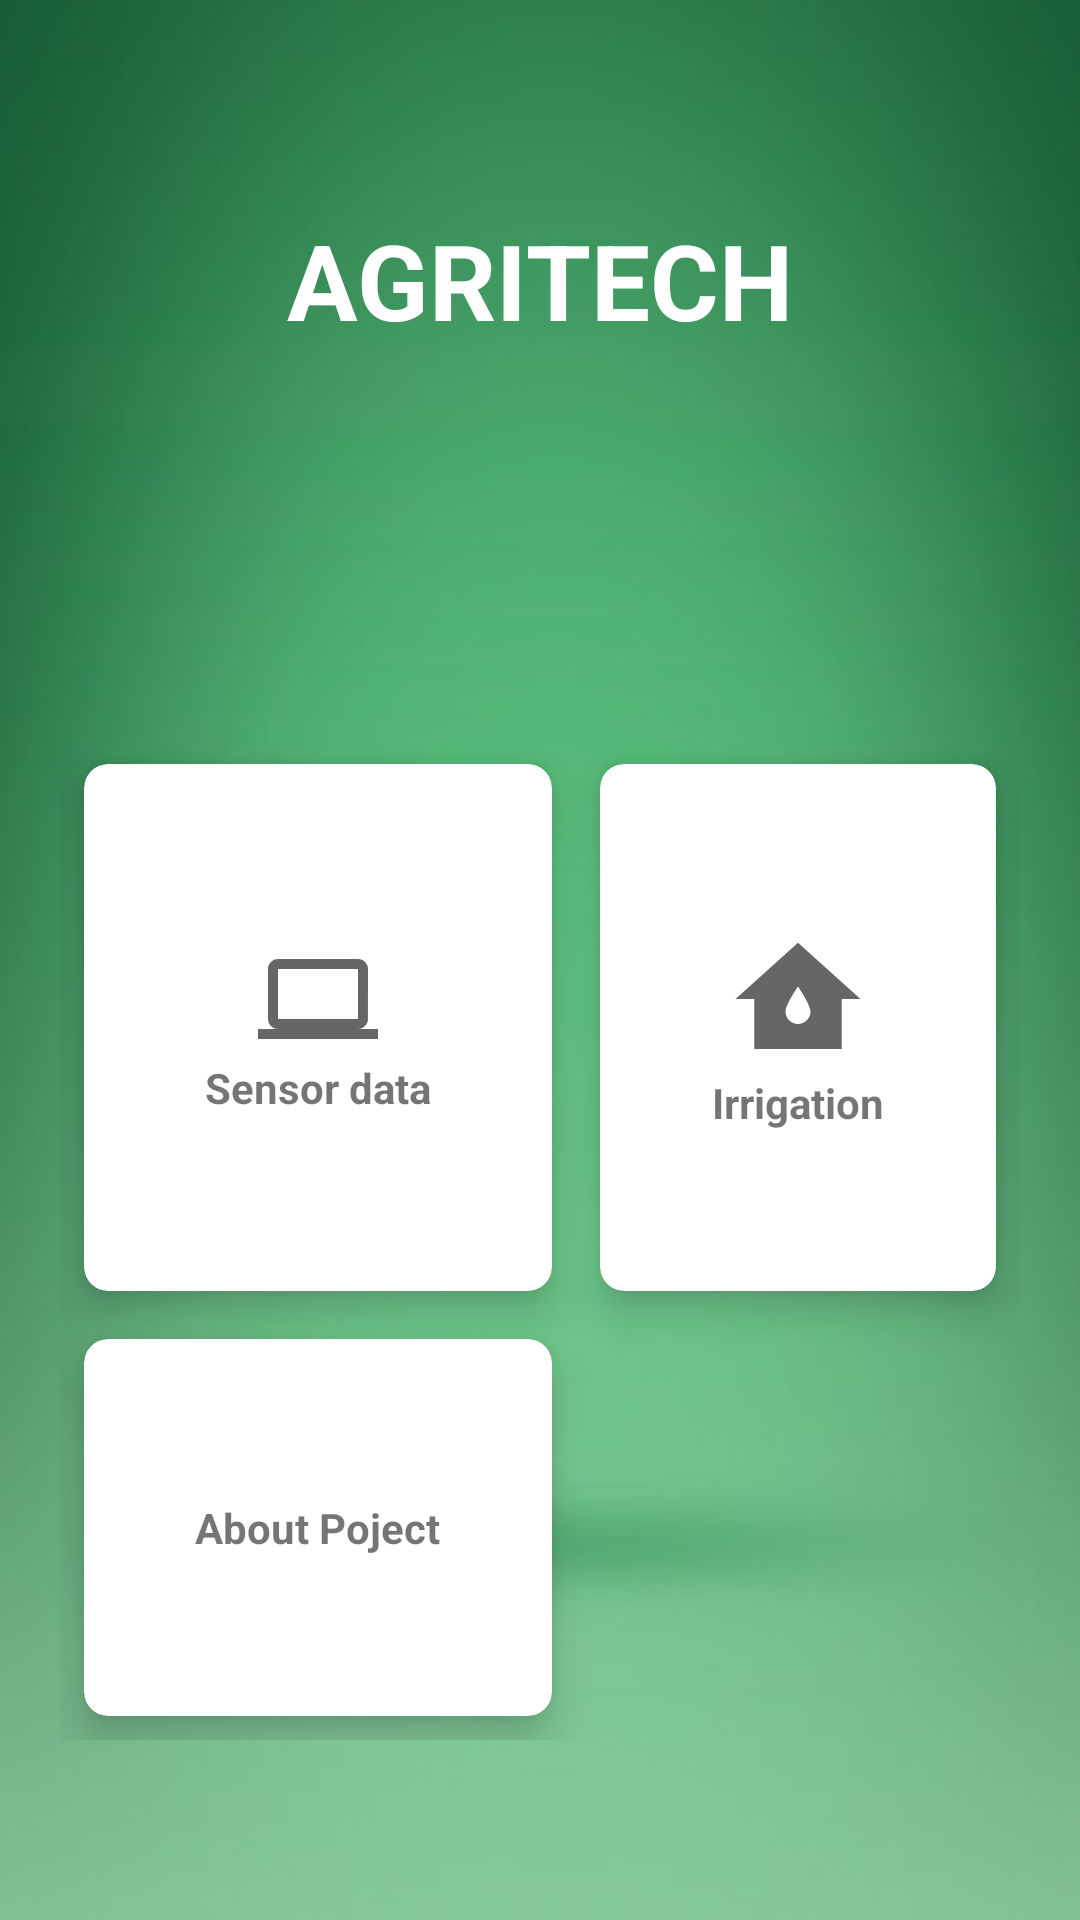

Point at icon controls on the screen. Image size 1080px x 1920px, points as [x,y].
computer: [318,999]
